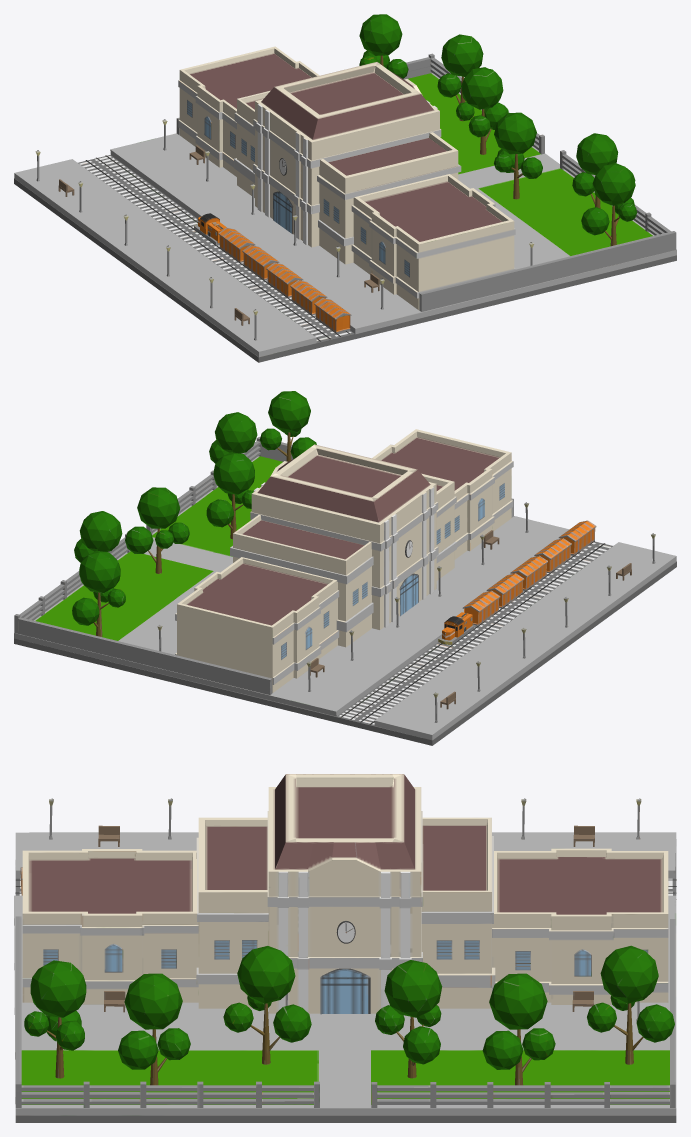
Rendered from trainStation.fbx.
3 views of the same model, one above another, from view 1: azimuth 30°, elevation 25°; view 2: azimuth 150°, elevation 25°; view 3: azimuth 270°, elevation 25° (orthographic). The views are drawn at different scales.
Parts seen in each view (by area): view 1: Train station; view 2: Train station; view 3: Train station.
Boxes of the visible parts, x1,y1,x2,y2 form: Train station: [14, 14, 676, 362]; Train station: [14, 391, 676, 745]; Train station: [14, 774, 676, 1122].
Size of the model in its own units: 2266 by 679 by 2292.
1 material, 1 textured.
